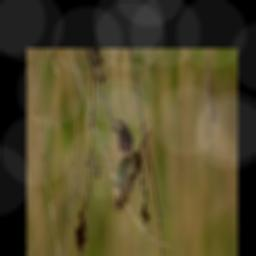Sparrow: (110, 131, 153, 215)
